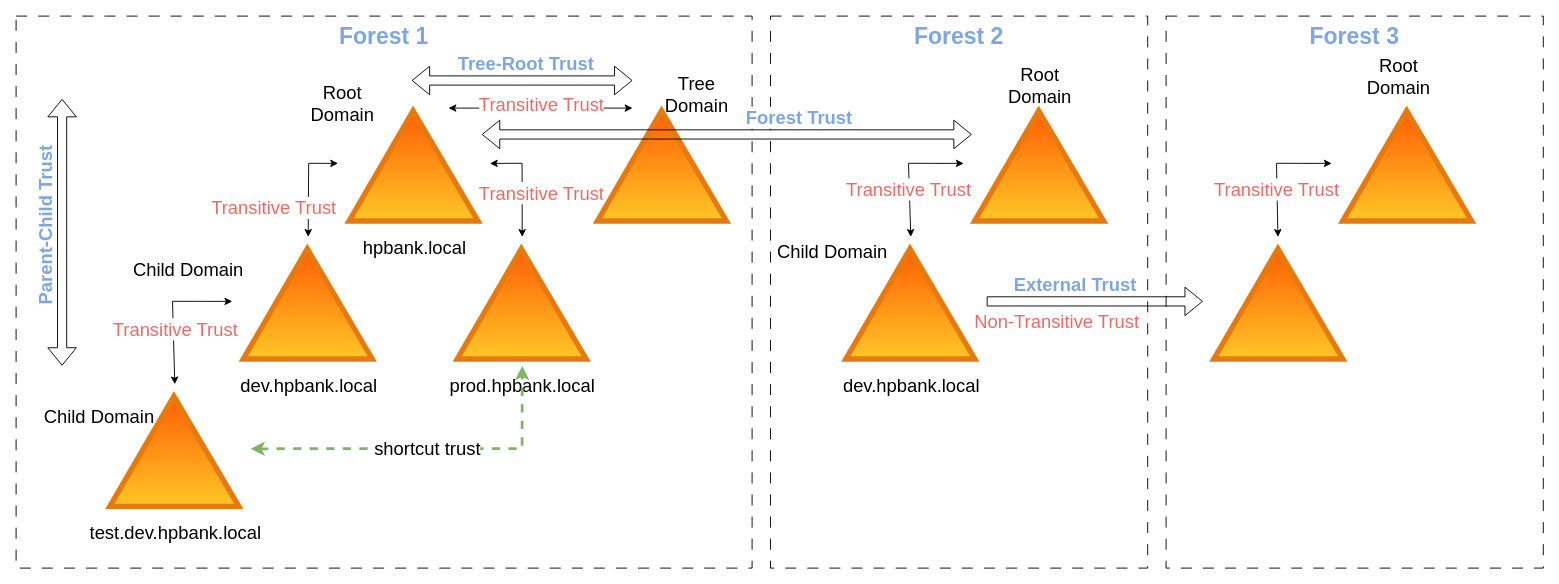
This 1559x584 diagram has some shape labels left out. Each missing label, with the centre of its shape:
"chudamax.local" goes at pixel 1039 162.
"dev.megacorp.org" goes at pixel 1278 300.
"hpbank-test.local" goes at pixel 662 162.
"megacorp.org" goes at pixel 1407 162.
